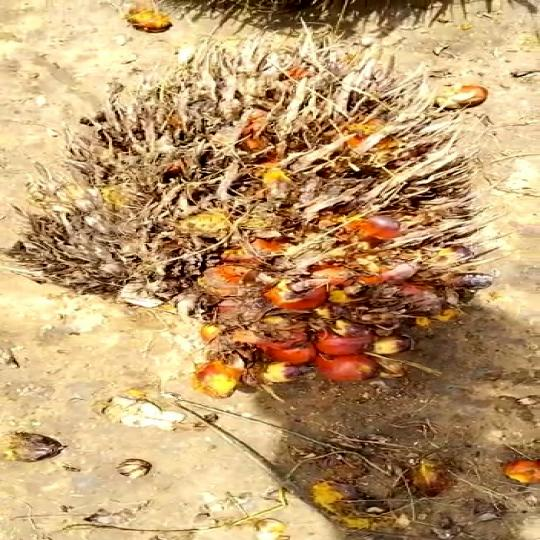terlalu masak: (1, 33, 540, 403)
